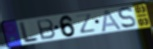6: (59, 14, 78, 38)
A: (100, 9, 123, 34)
B: (35, 18, 57, 41)
L: (19, 21, 39, 45)
S: (117, 6, 137, 30)
Z: (74, 12, 97, 34)
